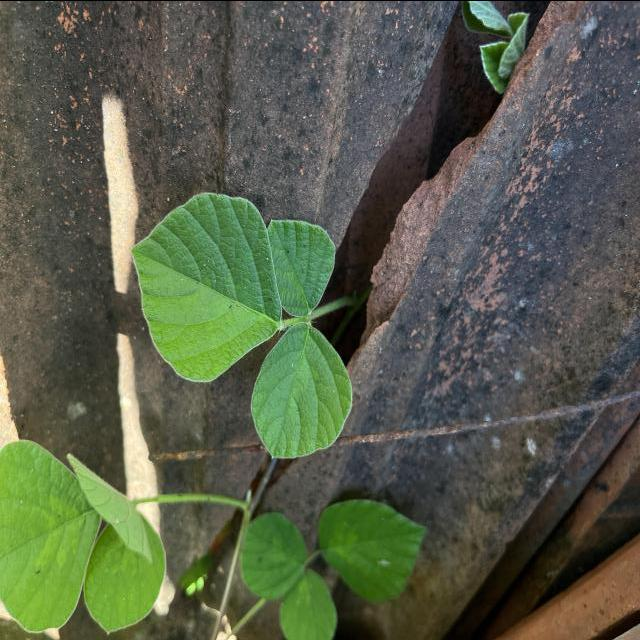Pseudarthria viscida: (130, 186, 358, 461)
